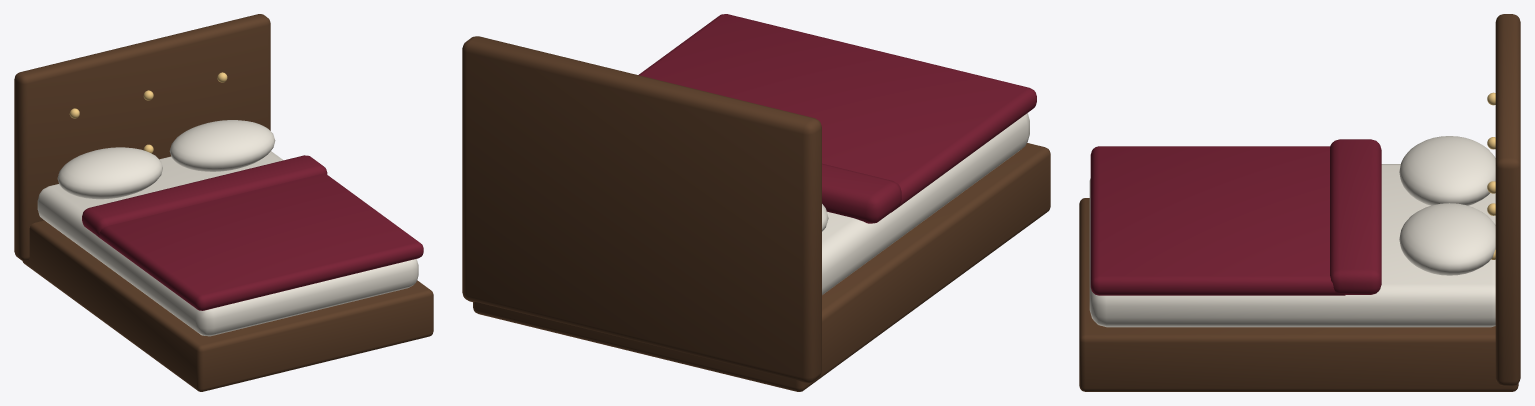
Rendered from bed.fbx.
The picture shows the model from 3 angles, left to right: view 1: azimuth 30°, elevation 25°; view 2: azimuth 150°, elevation 25°; view 3: azimuth 270°, elevation 25°; orthographic projection. The views are drawn at different scales.
Visible parts, largest first — view 1: headboard, blanket, base, mattress, fold, pillow, pillow.001; view 2: headboard, blanket, base, mattress, fold; view 3: blanket, base, mattress, headboard, fold, pillow.001, pillow.
Part boxes in pixels (x1,y1,x2,y2): headboard: [14, 14, 270, 260]; blanket: [97, 173, 423, 310]; base: [22, 220, 433, 391]; mattress: [37, 151, 418, 336]; fold: [82, 155, 327, 236]; pillow: [57, 147, 162, 199]; pillow.001: [169, 120, 275, 171]; headboard: [462, 36, 821, 383]; blanket: [638, 14, 1036, 212]; base: [473, 143, 1050, 391]; mattress: [822, 113, 1029, 294]; fold: [822, 163, 901, 223]; blanket: [1090, 146, 1345, 295]; base: [1079, 198, 1518, 391]; mattress: [1089, 164, 1495, 327]; headboard: [1495, 14, 1520, 386]; fold: [1330, 139, 1381, 294]; pillow.001: [1399, 203, 1495, 275]; pillow: [1399, 136, 1495, 205].
Size of what is drawn, in the model's own units: 170 by 125 by 211.
